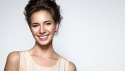female: (24, 3, 59, 51)
